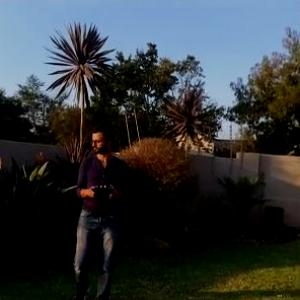follow: (66, 119, 127, 299)
